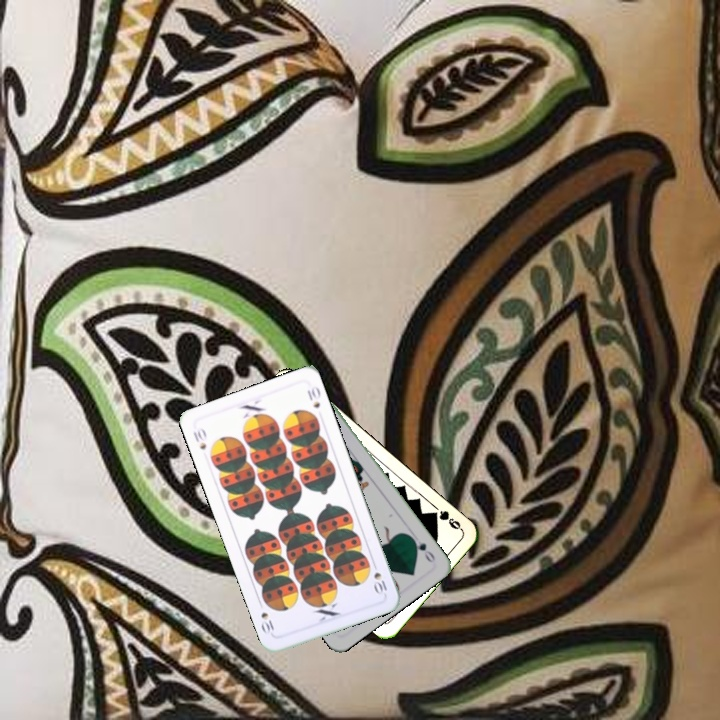G9: (426, 506, 464, 533)
GO: (406, 532, 438, 565)
S10: (369, 558, 390, 597), (189, 424, 209, 452)
